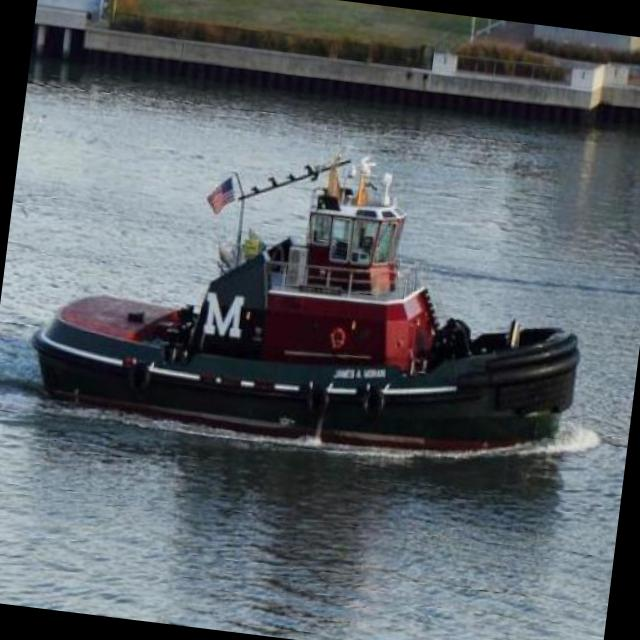boat: (0, 129, 626, 475)
